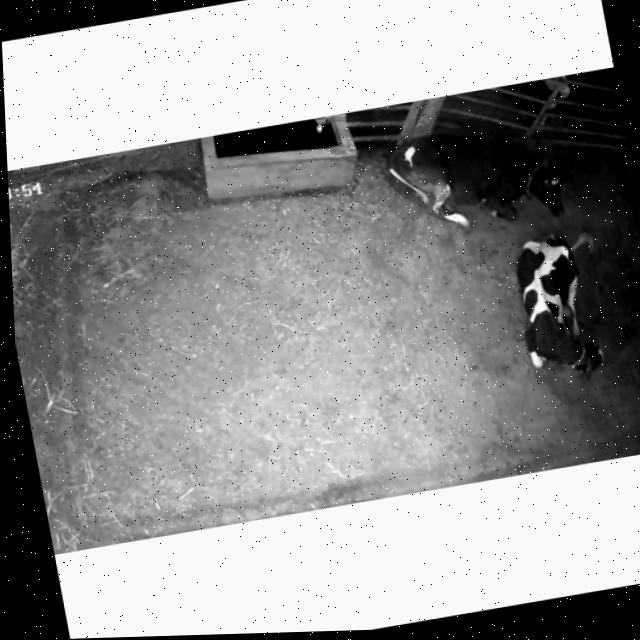lay: (372, 99, 582, 253), (486, 213, 633, 394)
